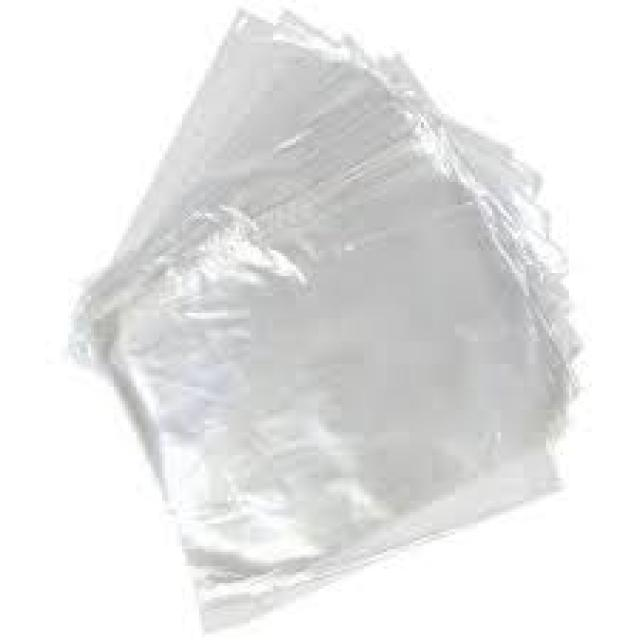Dry: (66, 3, 637, 611)
